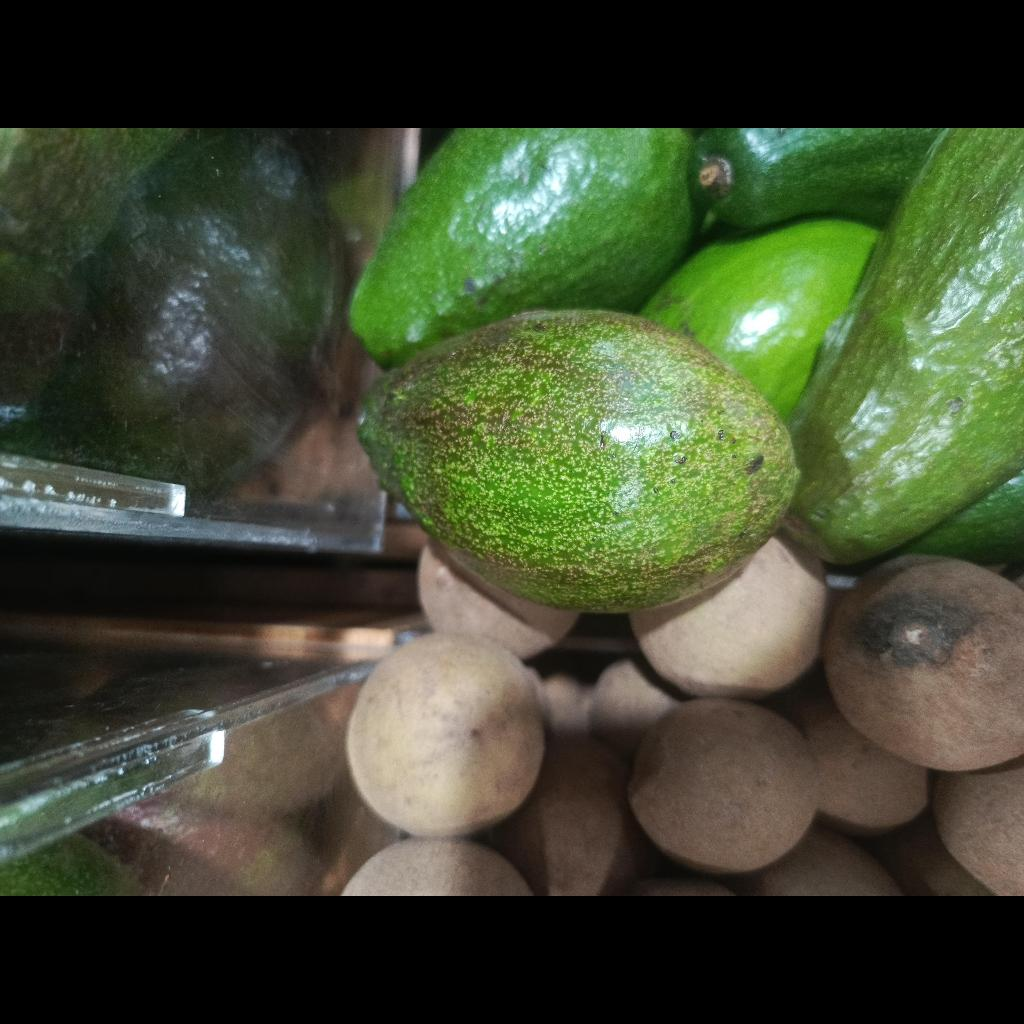anthracnose: (358, 310, 798, 612)
healthy: (787, 128, 1024, 563), (350, 128, 703, 369)
